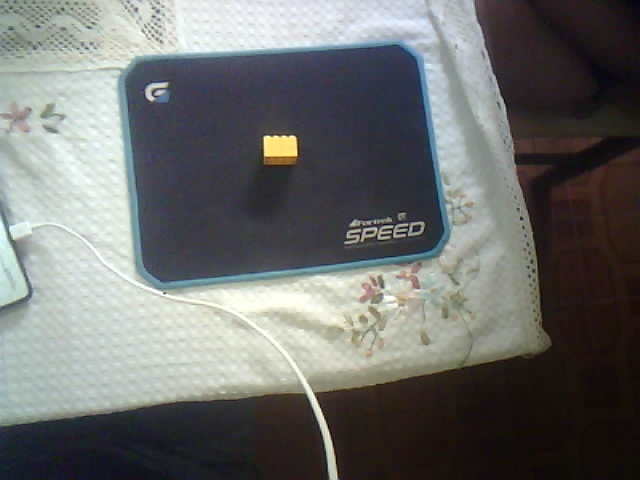lego: (262, 134, 298, 166)
